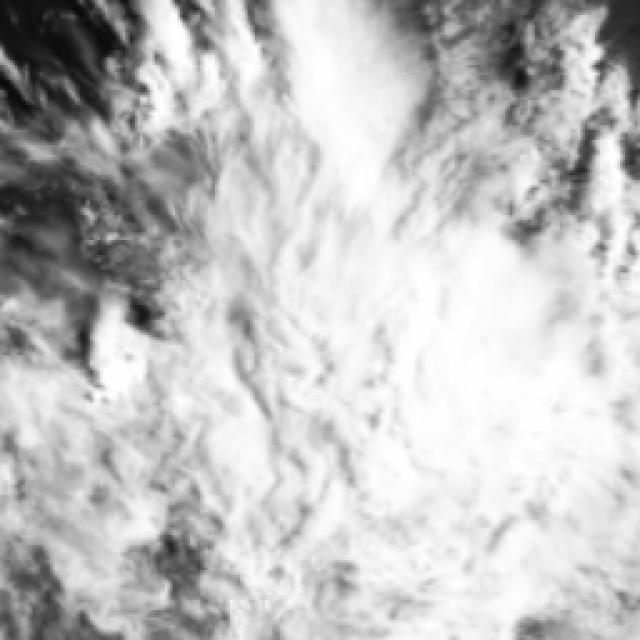CB: (400, 247, 616, 492)
